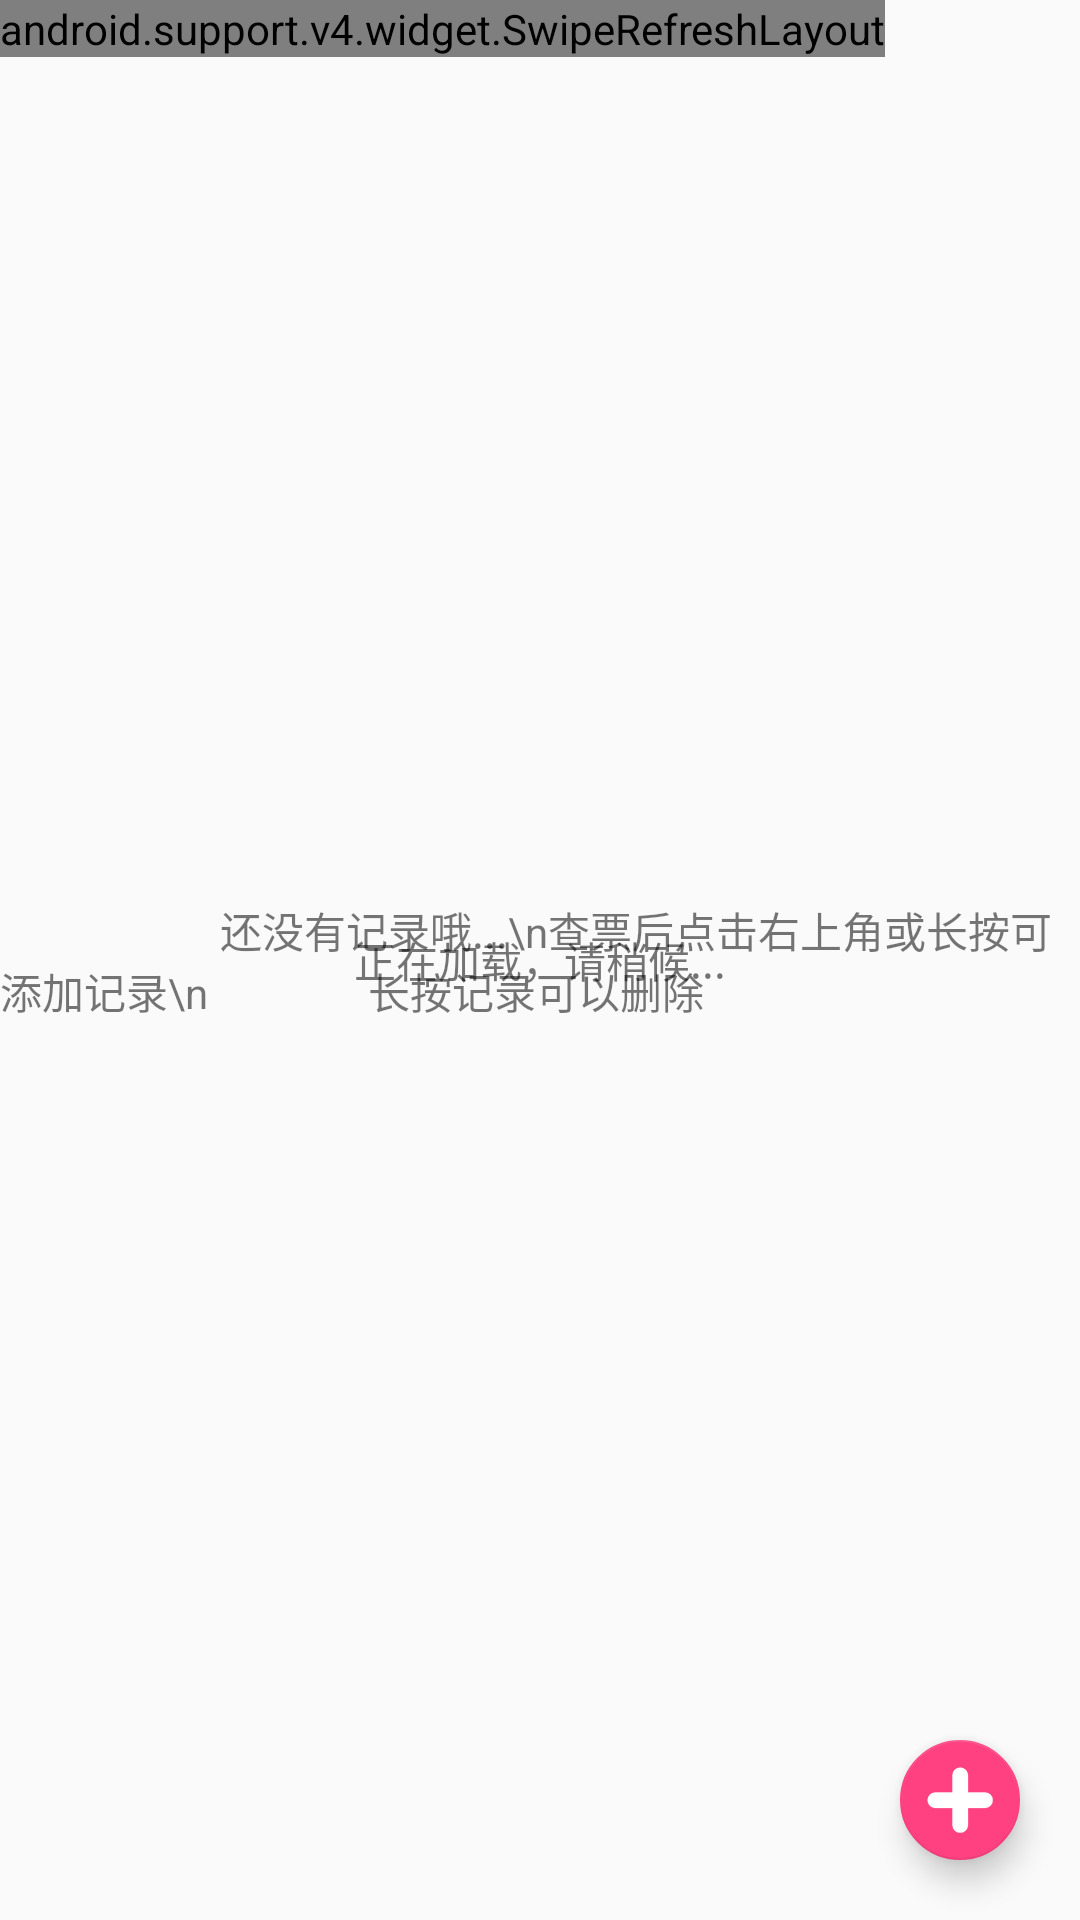

Where icons sit on this 1080×1920 app screen, as (x1, y1, x2, y2):
add: (900, 1740, 1020, 1860)
